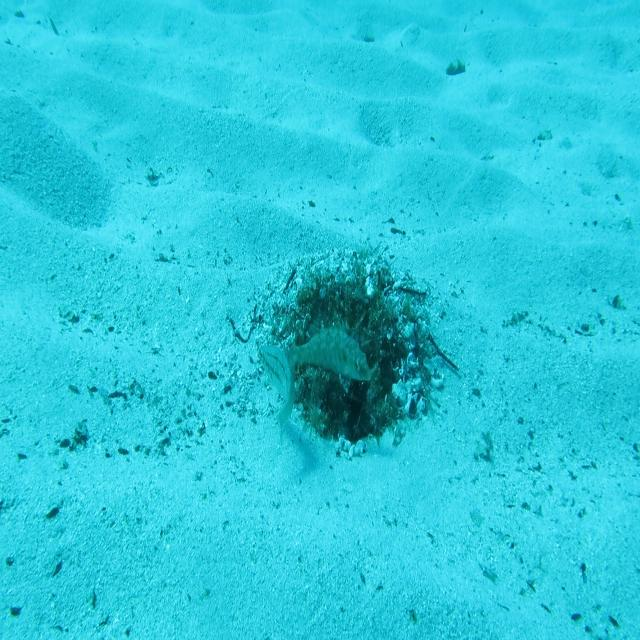BEND: (278, 315, 374, 387)
core_nest: (324, 296, 368, 350)
female: (256, 341, 298, 452)
nest: (246, 234, 452, 483)
vegetation: (444, 55, 466, 77)
